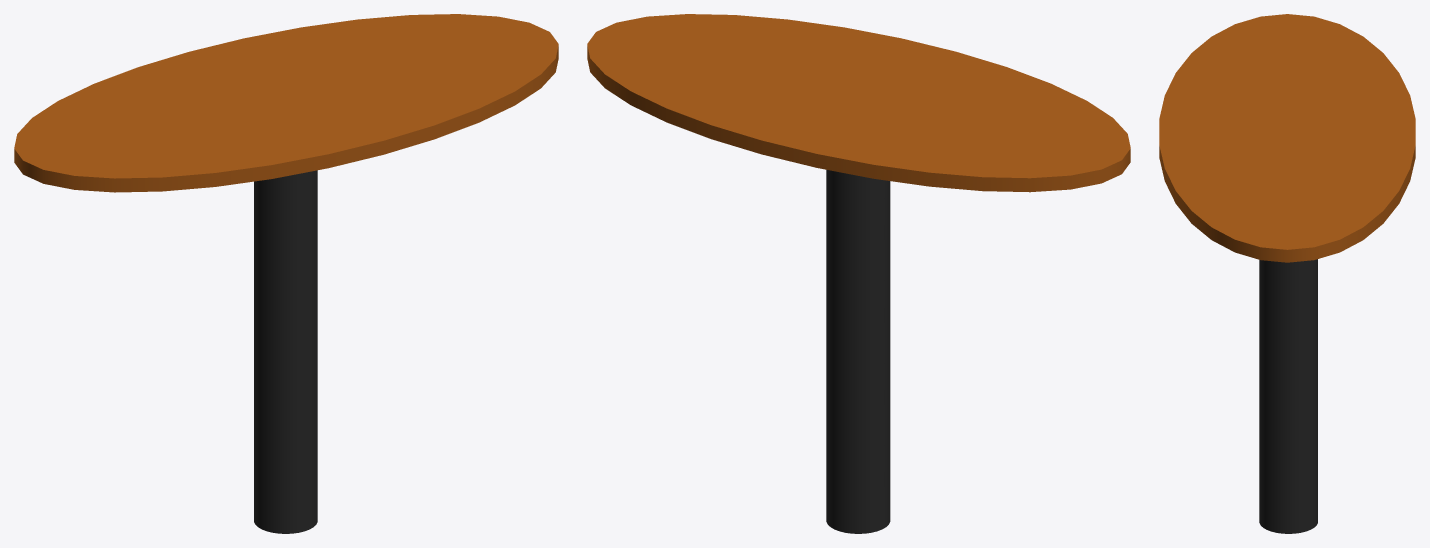
Rendered from Table.FBX.
3 views of the same model, side by side, from view 1: azimuth 30°, elevation 25°; view 2: azimuth 150°, elevation 25°; view 3: azimuth 270°, elevation 25° (orthographic). The views are drawn at different scales.
Parts seen in each view (by area): view 1: Cylinder001, Cylinder002; view 2: Cylinder001, Cylinder002; view 3: Cylinder001, Cylinder002.
Part boxes in pixels (x1,y1,x2,y2): Cylinder001: [14, 14, 558, 192]; Cylinder002: [254, 170, 317, 533]; Cylinder001: [587, 14, 1130, 192]; Cylinder002: [826, 170, 890, 533]; Cylinder001: [1159, 14, 1415, 262]; Cylinder002: [1259, 259, 1317, 533].
Bounding box in the file's own units: 115 × 88.63 × 52.92.
